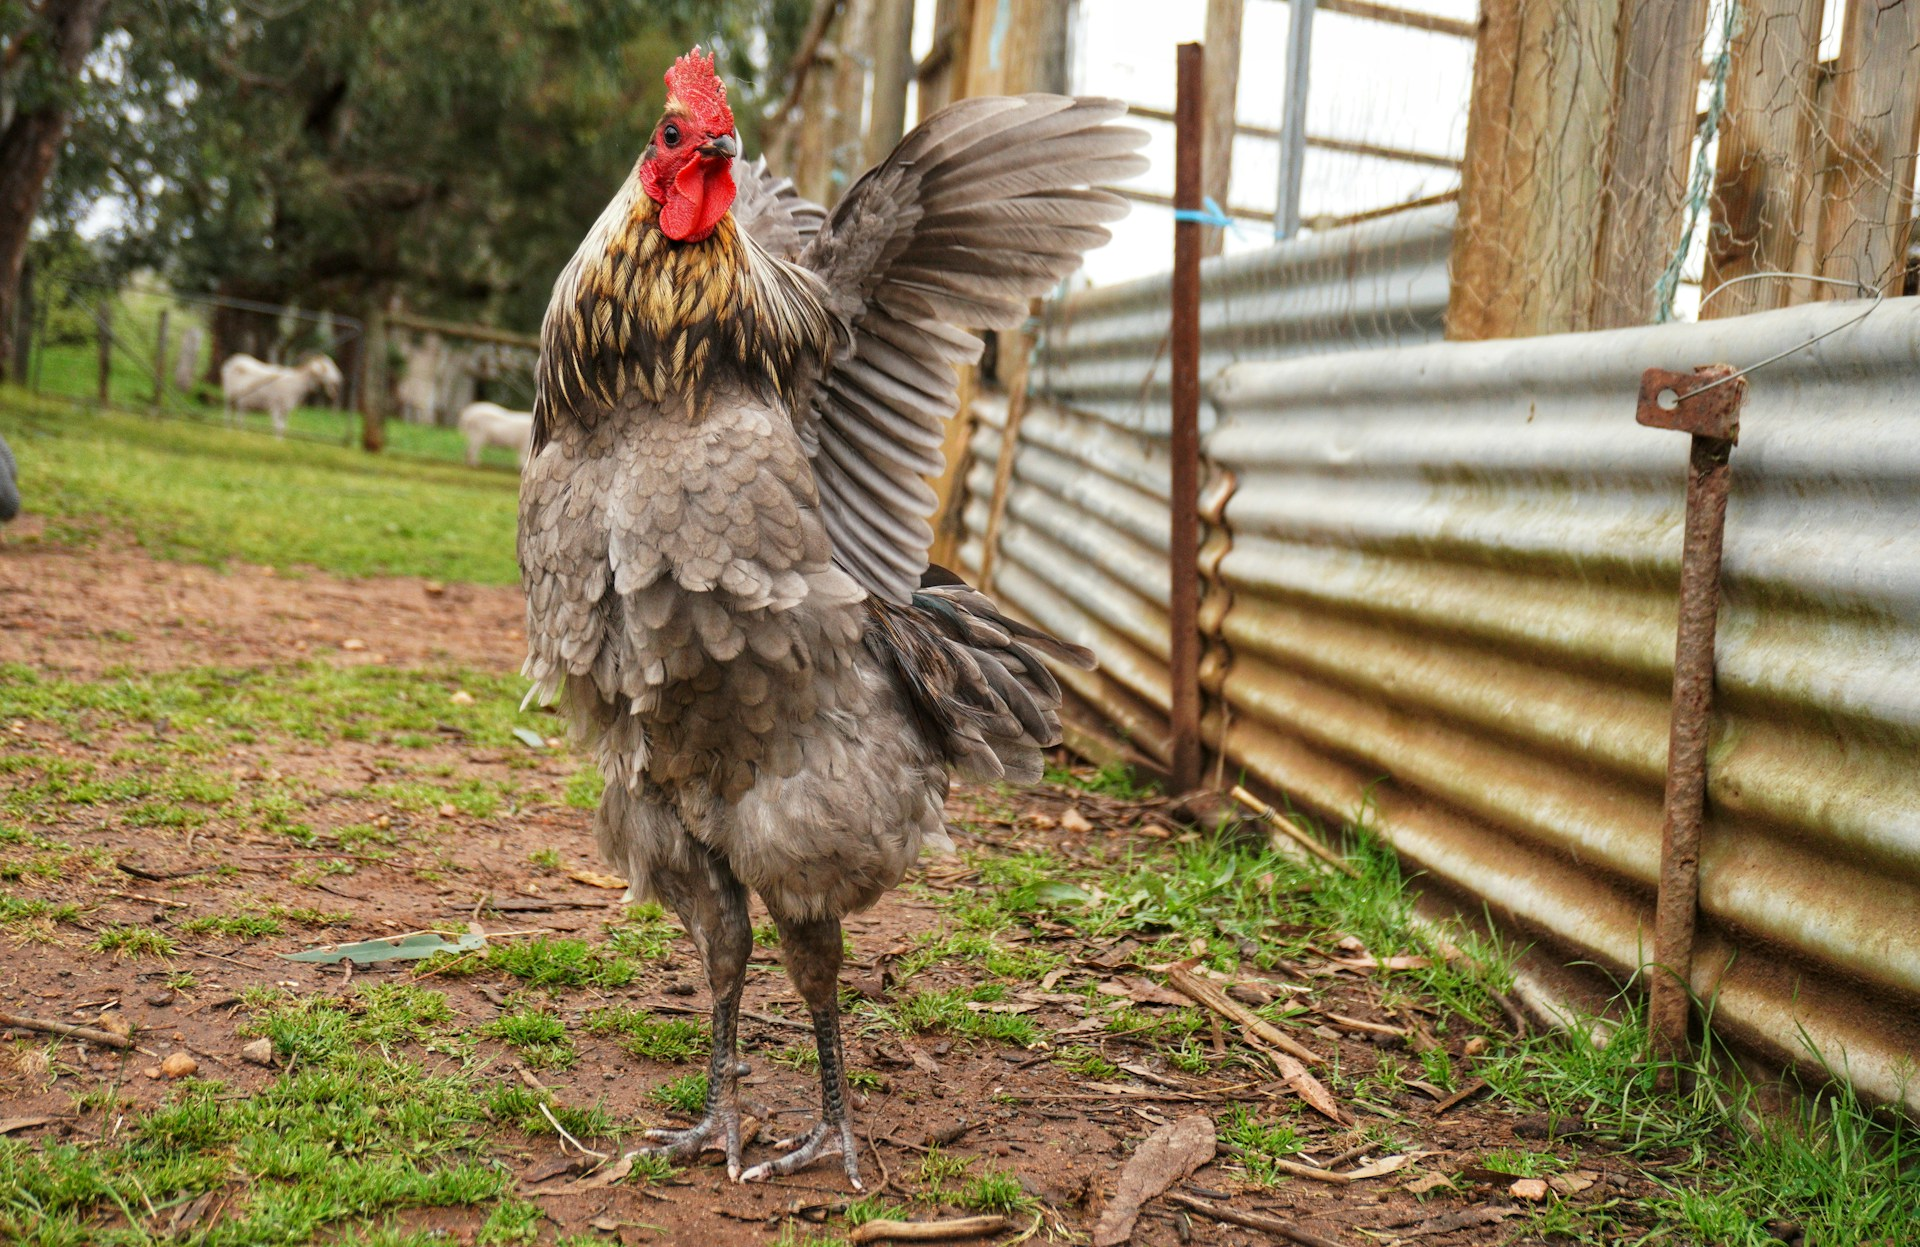hen: (477, 43, 1163, 1209)
